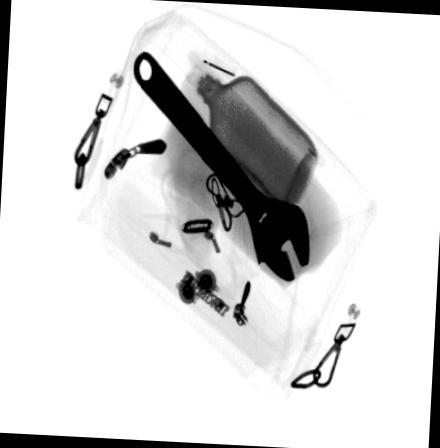Wrench: (129, 49, 309, 284)
